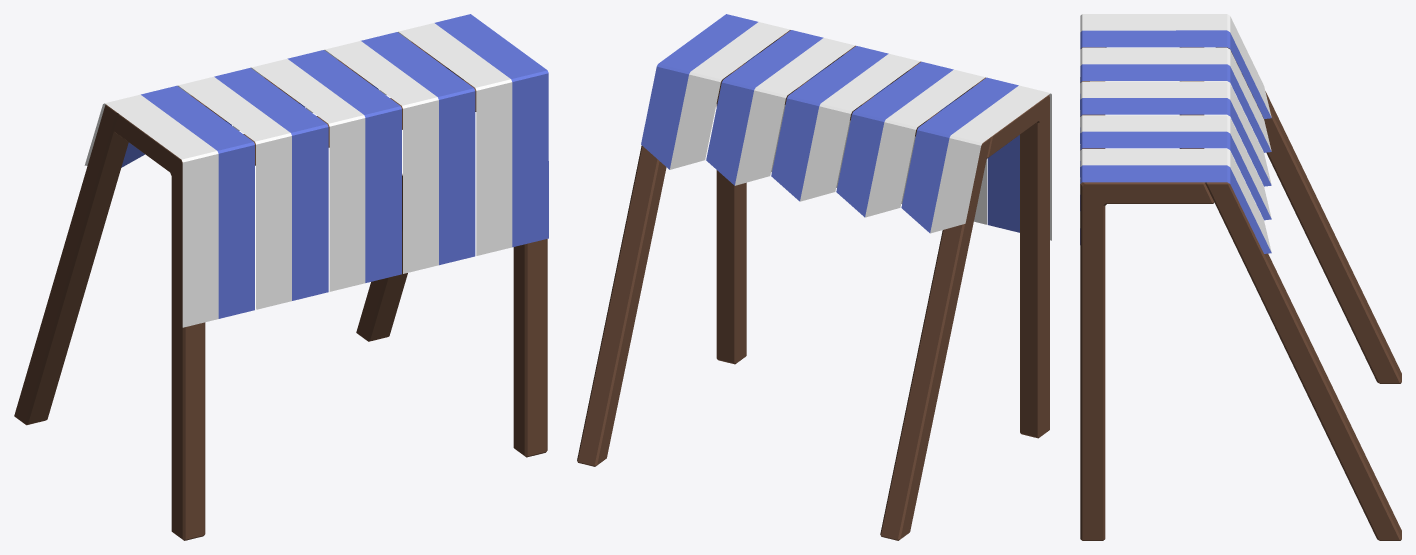
The model's file is Stall_02.fbx.
3 renders of one model, left to right at view 1: azimuth 30°, elevation 25°; view 2: azimuth 150°, elevation 25°; view 3: azimuth 270°, elevation 25°, orthographic. The views are drawn at different scales.
Visible parts, largest first — view 1: Stall_02; view 2: Stall_02; view 3: Stall_02.
Part boxes in pixels (<box>): Stall_02: <box>14,14,548,540</box>; Stall_02: <box>577,14,1051,540</box>; Stall_02: <box>1080,14,1401,540</box>.
Size of the model in its own units: 201 by 200 by 162.
